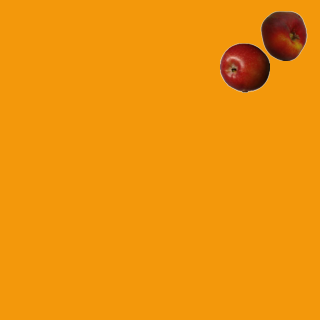Apple Braeburn: (219, 42, 269, 92)
Nectarine Flat: (258, 10, 308, 60)
